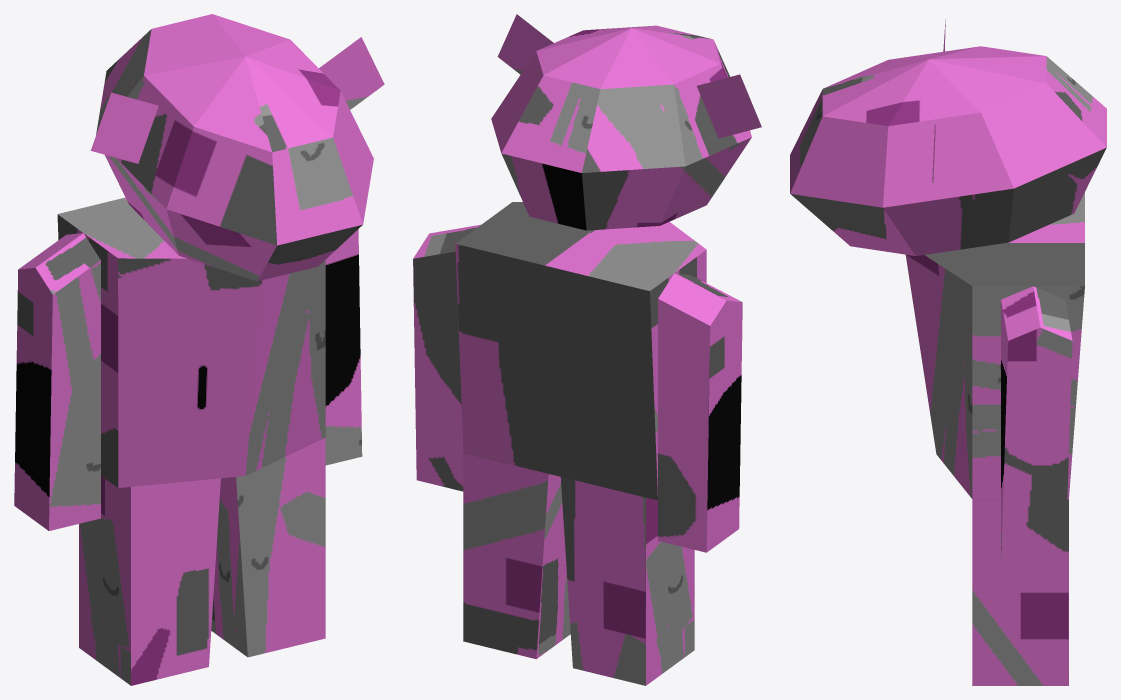
Rendered from axolotl.obj.
3 views of the same model, side by side, from view 1: azimuth 30°, elevation 25°; view 2: azimuth 150°, elevation 25°; view 3: azimuth 270°, elevation 25° (orthographic). The views are drawn at different scales.
Visible parts, largest first — view 1: cuboid; view 2: cuboid; view 3: cuboid.
Boxes of the visible parts, box(x1,y1,x2,y2) form: cuboid: box(14, 14, 384, 685); cuboid: box(413, 14, 761, 685); cuboid: box(790, 19, 1106, 685).
Size of the model in its own units: 0.375 by 0.7188 by 0.356.
Materials: 1 (1 with a texture image).
